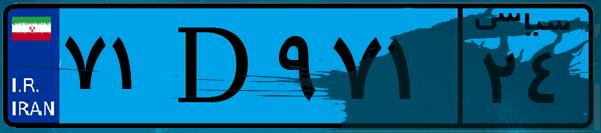1: (385, 28, 445, 110), (110, 28, 158, 98)
2: (475, 38, 525, 113)
4: (525, 38, 570, 115)
7: (330, 28, 385, 110), (57, 26, 110, 100)
9: (270, 28, 330, 110)
D: (158, 12, 270, 120)
